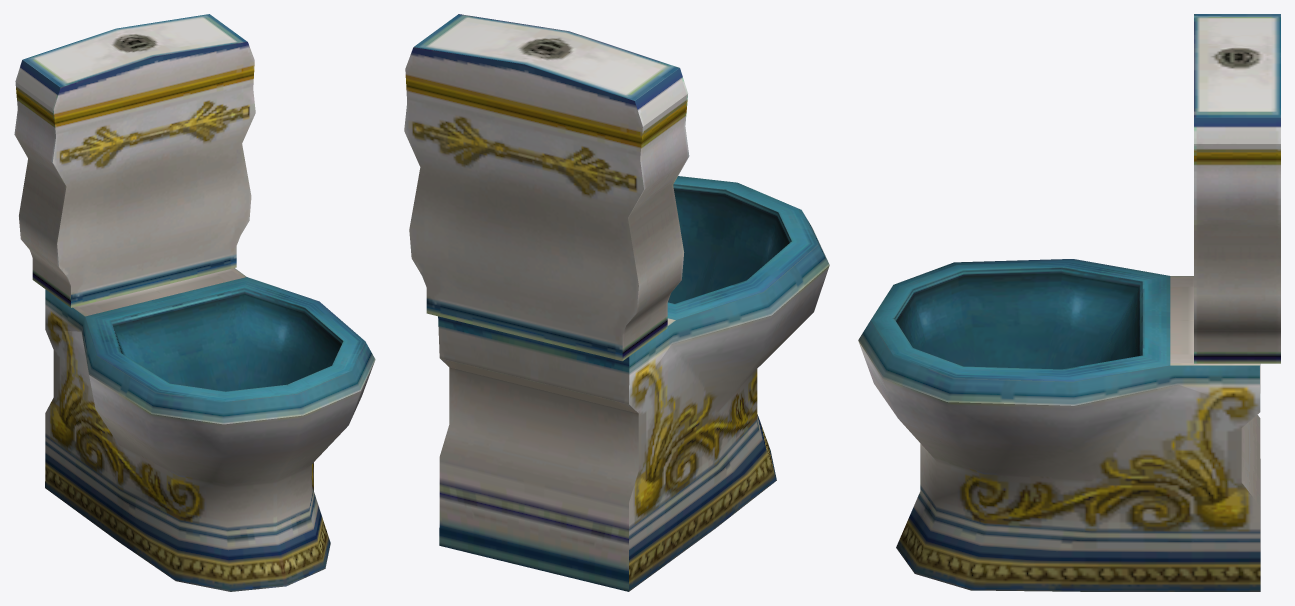
The model's file is furni_0201119_03.FBX.
3 views of the same model, side by side, from view 1: azimuth 30°, elevation 25°; view 2: azimuth 150°, elevation 25°; view 3: azimuth 270°, elevation 25° (orthographic). The views are drawn at different scales.
Visible parts, largest first — view 1: furni_0201119_03; view 2: furni_0201119_03; view 3: furni_0201119_03.
Part boxes in pixels (bbox=[...]): furni_0201119_03: bbox=[14, 14, 375, 591]; furni_0201119_03: bbox=[404, 14, 829, 591]; furni_0201119_03: bbox=[858, 14, 1280, 591].
Size of the model in its own units: 57.89 by 101 by 78.84.
1 material, 1 textured.
